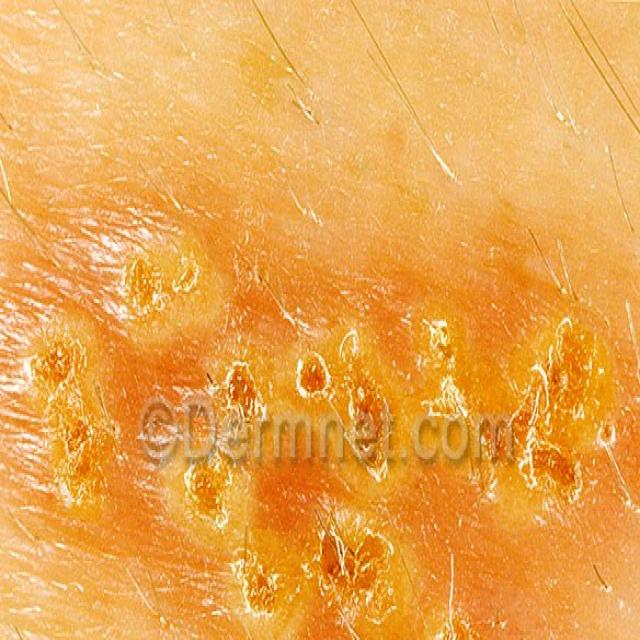Viral Infections: (0, 172, 640, 640)
